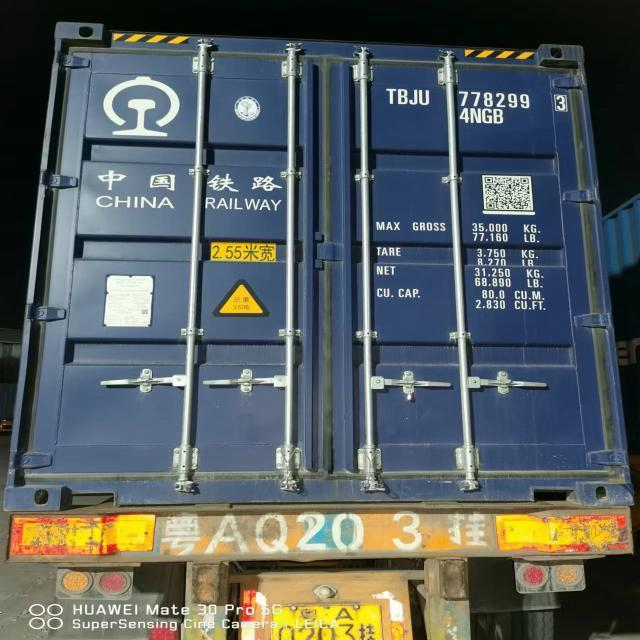ISO: (458, 106, 509, 128)
container_number: (382, 84, 576, 115)
